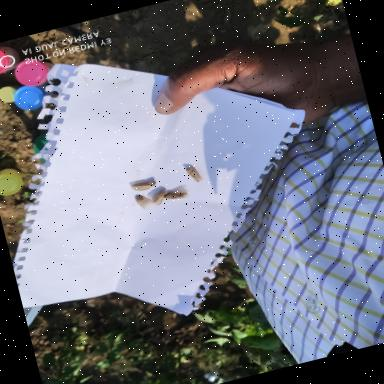pbw: (182, 160, 206, 186), (127, 176, 158, 195), (162, 186, 193, 203), (132, 193, 154, 213), (149, 190, 169, 208)
